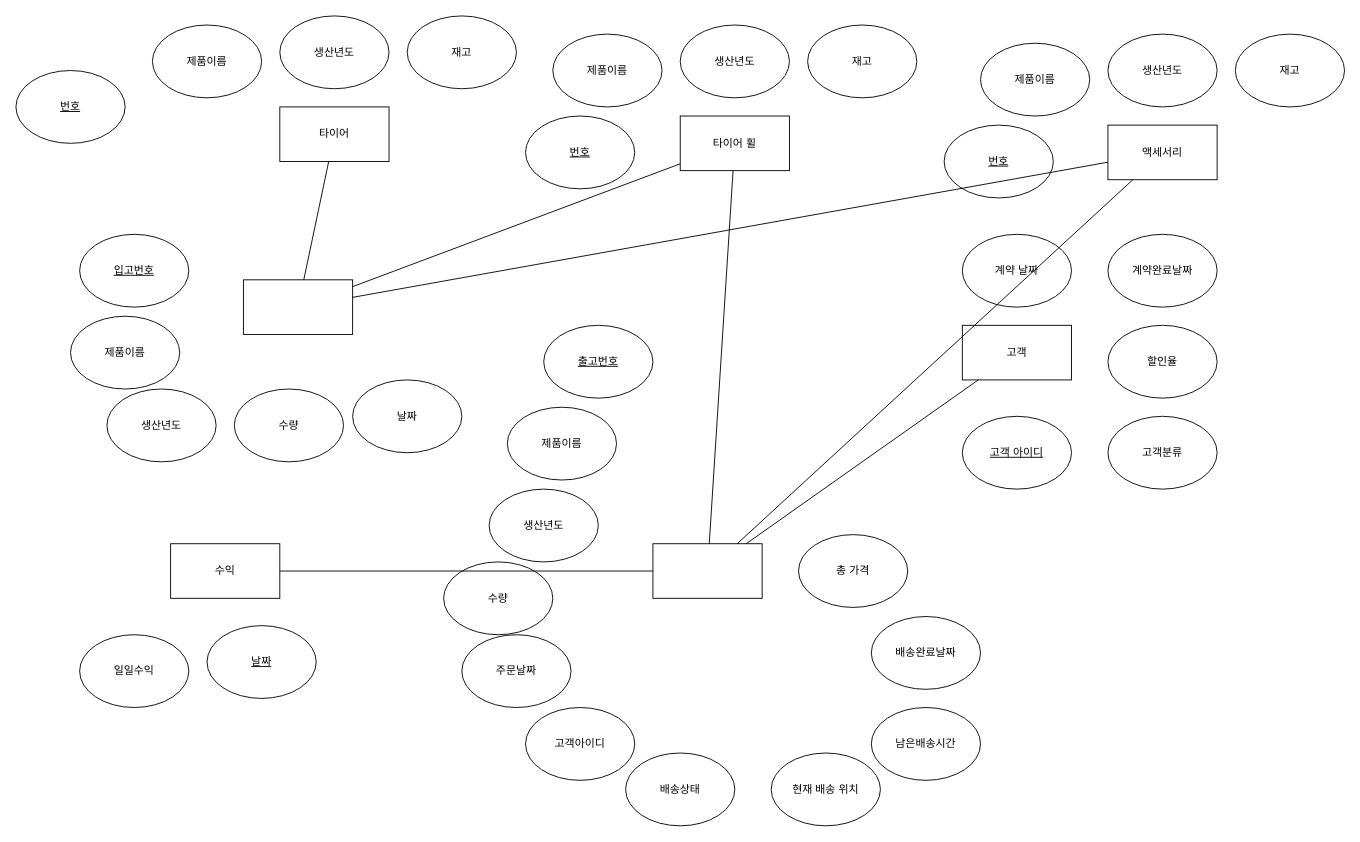
The diagram is 1360 pixels wide and 842 high, and some of its shapes have lost their labels. Each missing label, with the centre of its shape:
"입고 현황" belongs at (x=298, y=306).
"출고 현황" belongs at (x=707, y=570).
